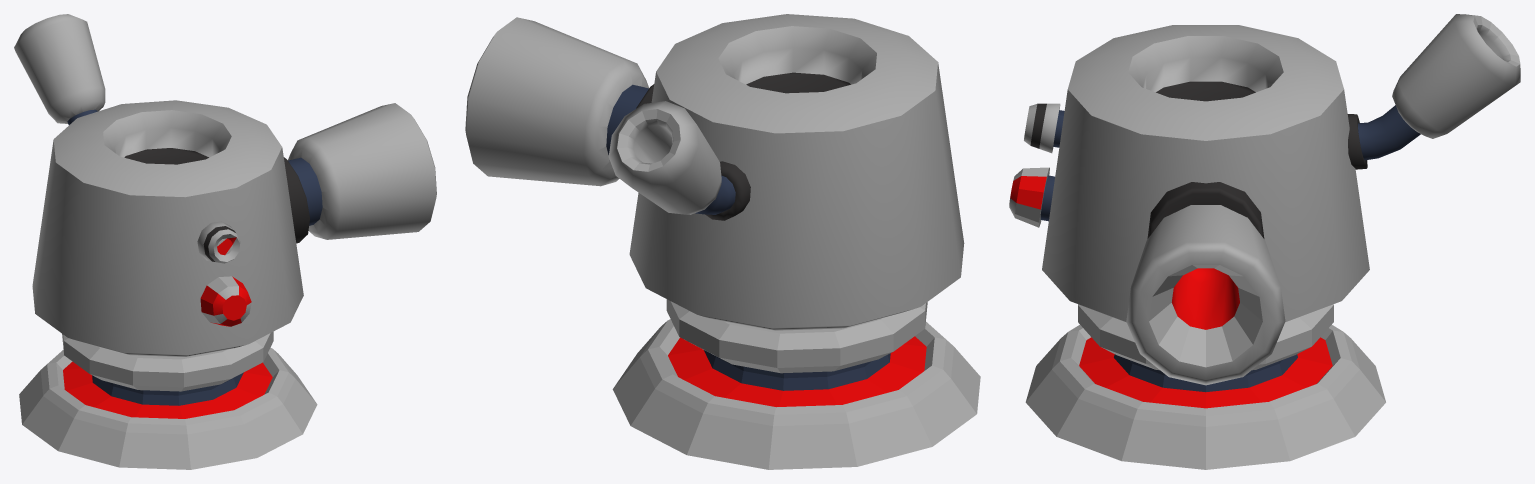
File: Turret.fbx
3 views of the same model, side by side, from view 1: azimuth 30°, elevation 25°; view 2: azimuth 150°, elevation 25°; view 3: azimuth 270°, elevation 25° (orthographic). The views are drawn at different scales.
Visible parts, largest first — view 1: Turret, Stand, Cannon, SteamPiston, PressureKnob, HeatDialer_Knob; view 2: Turret, Stand, Cannon, SteamPiston; view 3: Turret, Stand, Cannon, SteamPiston, PressureKnob, HeatDialer_Knob.
Part boxes in pixels (x1,y1,x2,y2): Turret: (32, 100, 303, 356); Stand: (19, 331, 317, 469); Cannon: (284, 103, 436, 243); SteamPiston: (14, 14, 105, 124); PressureKnob: (200, 276, 251, 326); HeatDialer_Knob: (197, 221, 240, 263); Turret: (629, 14, 964, 330); Stand: (612, 299, 980, 469); Cannon: (465, 17, 654, 186); SteamPiston: (608, 101, 750, 220); Turret: (1042, 25, 1369, 322); Stand: (1025, 304, 1385, 469); Cannon: (1126, 182, 1285, 385); SteamPiston: (1347, 14, 1520, 169); PressureKnob: (1009, 167, 1054, 227); HeatDialer_Knob: (1024, 103, 1064, 153).
Size of the model in its own units: 274 by 221 by 274.
